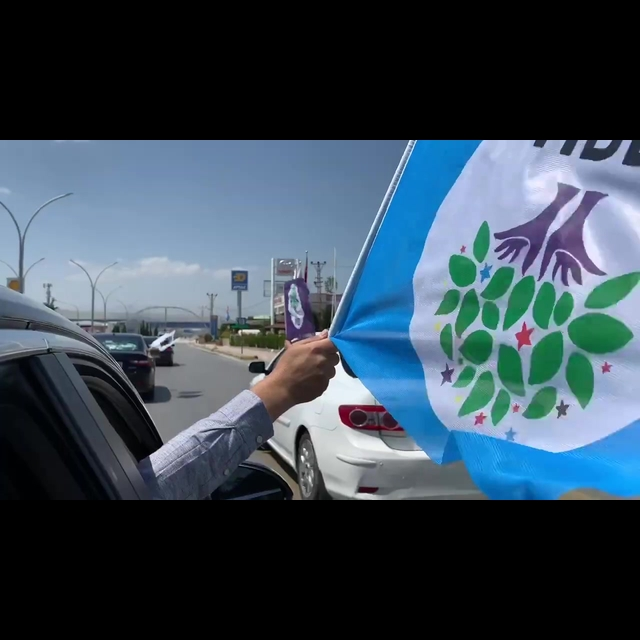HDP: (426, 166, 640, 441)
